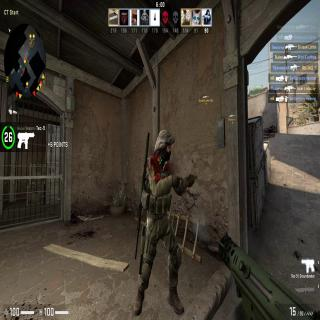CT-Body: (133, 118, 194, 296)
CT-Head: (155, 128, 174, 158)
